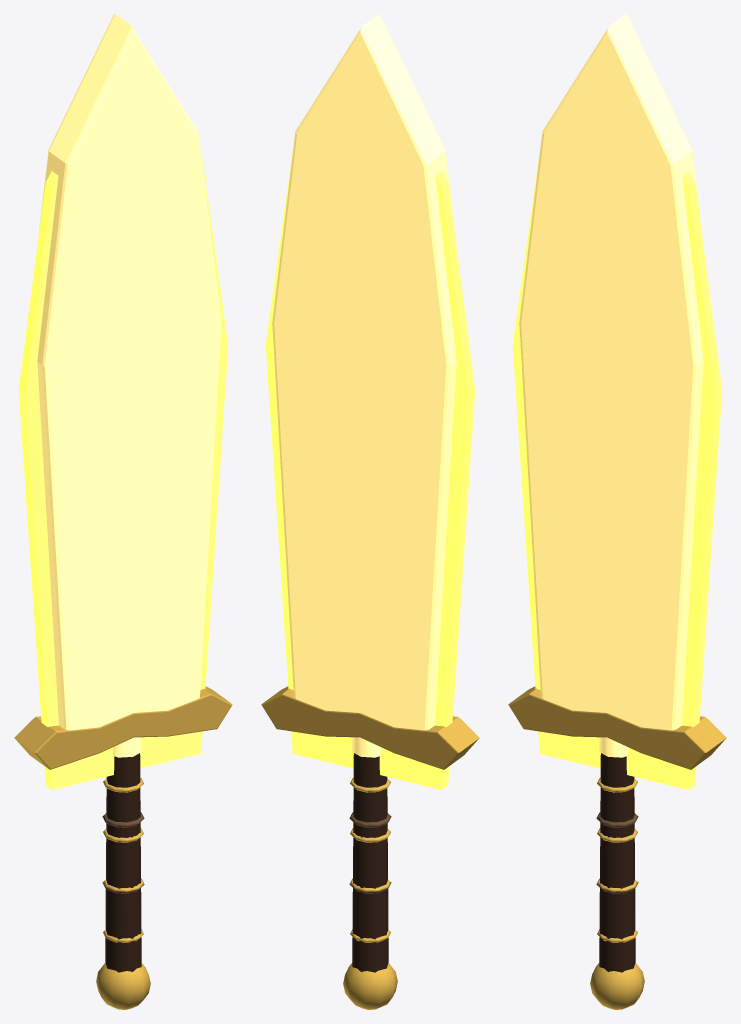
File: greatsword_f0_8ce43b1d.glb
3 views of the same model, side by side, from view 1: azimuth 30°, elevation 25°; view 2: azimuth 150°, elevation 25°; view 3: azimuth 330°, elevation 25° (orthographic).
Parts seen in each view (by area): view 1: m4_ow80_, m0_gm110_, m5_ow80_, m2_ow80_; view 2: m4_ow80_, m0_gm110_, m5_ow80_, m2_ow80_; view 3: m4_ow80_, m0_gm110_, m5_ow80_, m2_ow80_.
Part boxes in pixels (x1=…): m4_ow80_: x1=37, y1=14, x2=221, y2=757; m0_gm110_: x1=18, y1=151, x2=228, y2=789; m5_ow80_: x1=14, y1=686, x2=232, y2=1009; m2_ow80_: x1=105, y1=753, x2=141, y2=972; m4_ow80_: x1=272, y1=14, x2=456, y2=757; m0_gm110_: x1=265, y1=151, x2=475, y2=789; m5_ow80_: x1=261, y1=686, x2=479, y2=1009; m2_ow80_: x1=352, y1=753, x2=388, y2=972; m4_ow80_: x1=519, y1=14, x2=703, y2=757; m0_gm110_: x1=512, y1=151, x2=722, y2=789; m5_ow80_: x1=508, y1=686, x2=726, y2=1009; m2_ow80_: x1=599, y1=753, x2=635, y2=972.
Size of the model in its own units: 0.708 by 3.29 by 0.1583.
